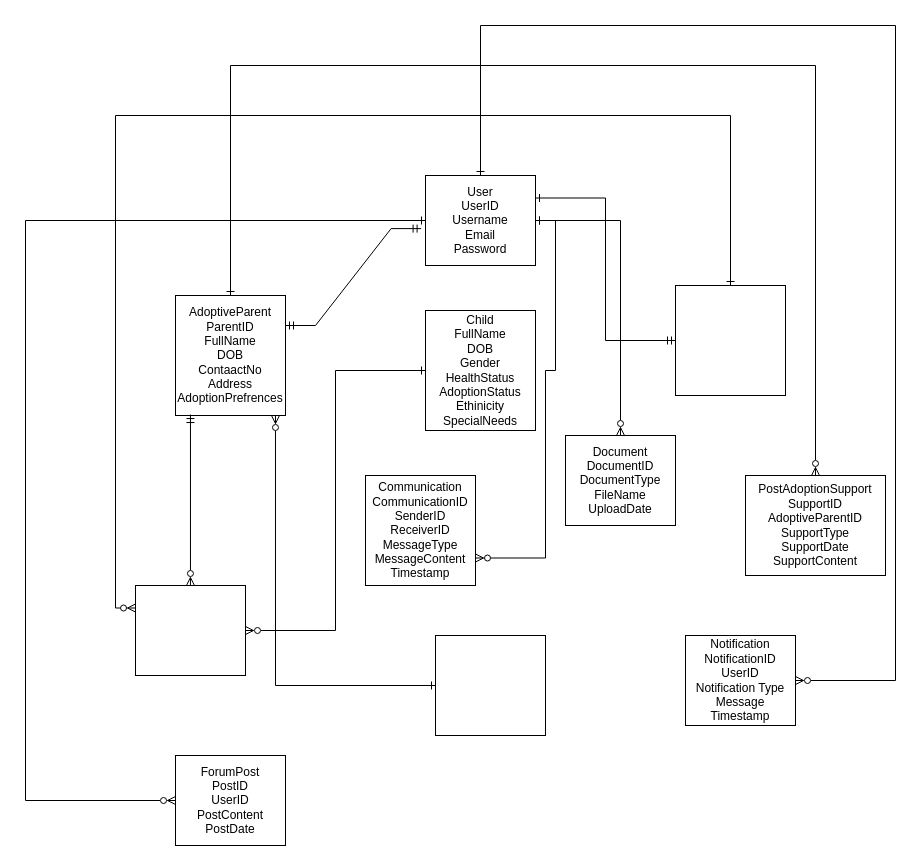
The diagram is 922 pixels wide and 863 high, and some of its shapes have lost their labels. The shapes that lost their labels are listed below. From the top down, each one's centre as x and y in pixels, then its label:
(x=730, y=340): AdoptiveAgency AgencyID ContactPerson Address ContactNumber Website
(x=190, y=630): Match MatchID AdoptiveParentID ChildID MatchDate MatchStatus
(x=490, y=685): CulturalEducation EducationID Topic Description ResourceLink
